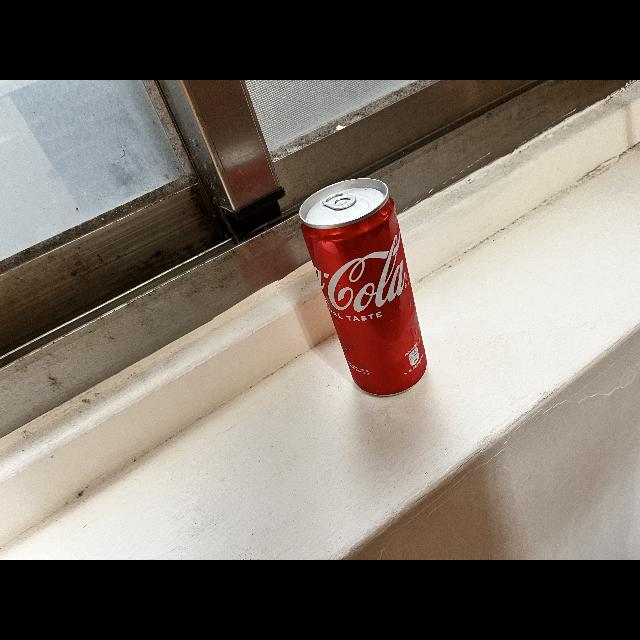can: (296, 176, 438, 400)
